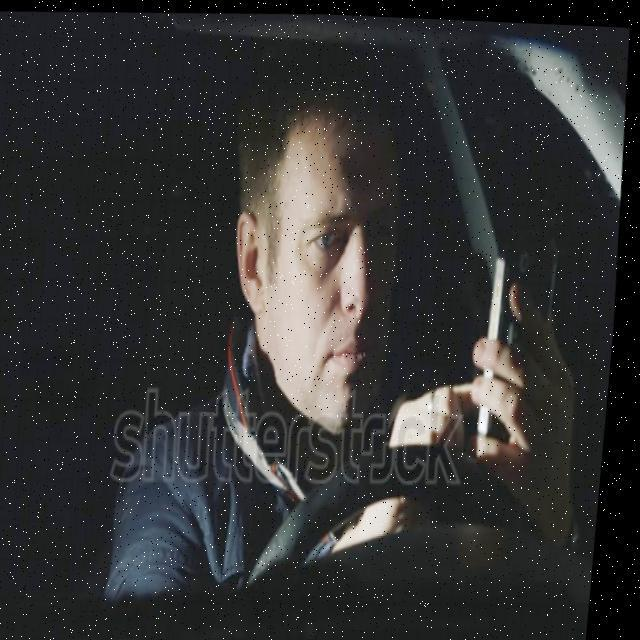PhoneCall: (478, 230, 568, 450)
